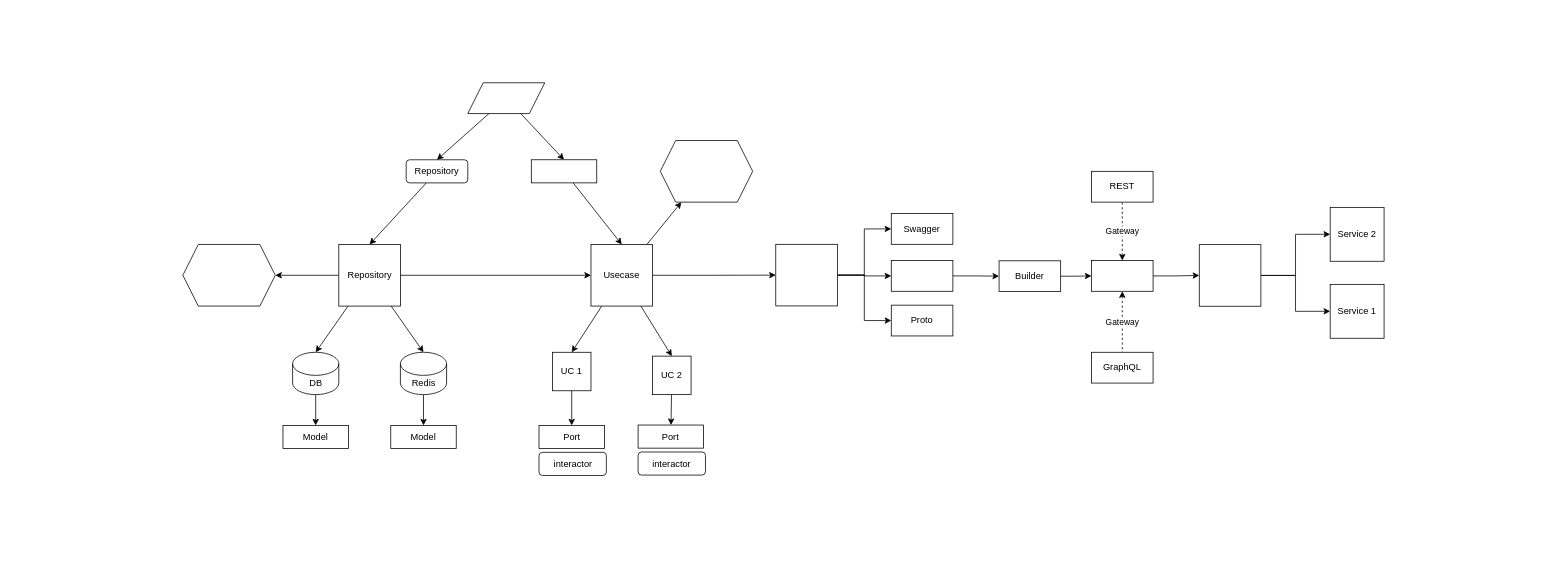
Image size: 1551x581. Some labels were removed from this diagram. Here are the shapes that lost their labels. From the top down, the box of each, then its label:
(467, 82, 545, 114): Domain
(531, 159, 597, 183): Entity
(660, 140, 753, 202): Container
(182, 244, 275, 306): Connection
(775, 244, 837, 306): Infrastructure
(891, 260, 953, 291): Server
(1091, 260, 1153, 291): GRPC
(1199, 244, 1261, 306): Service
